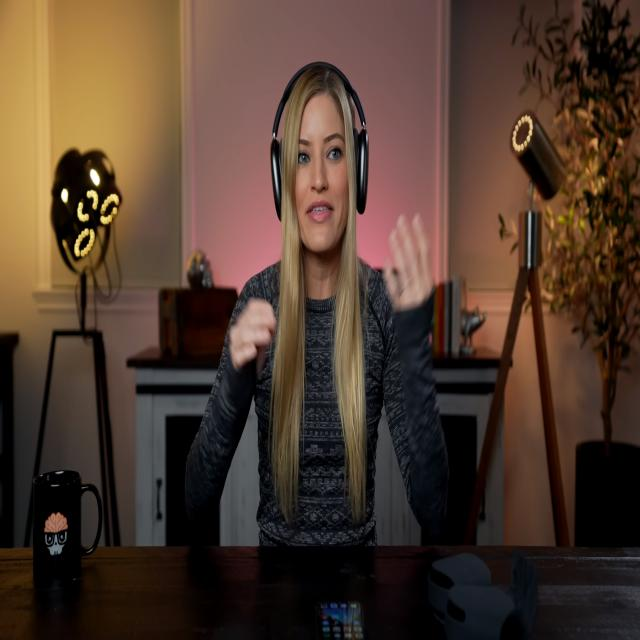Headphone: (269, 58, 371, 229)
